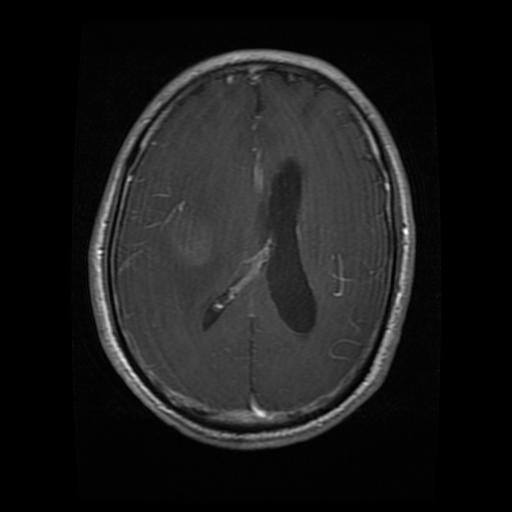Gliomia_tumour: (161, 200, 222, 269)
